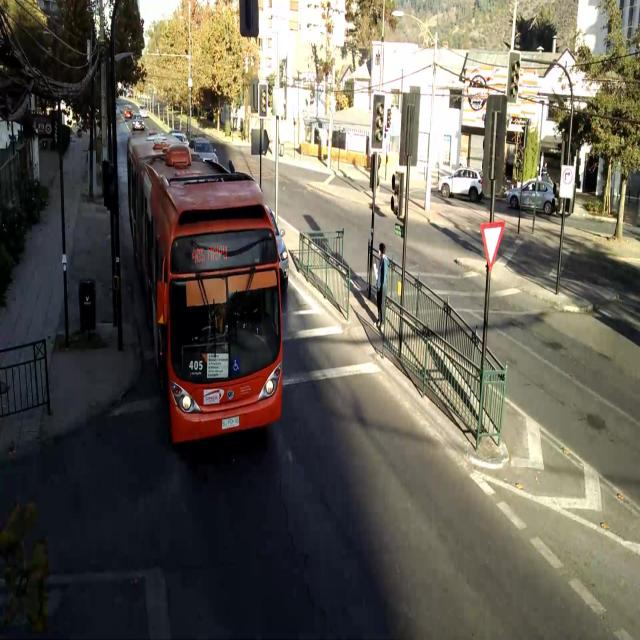AB: (125, 125, 286, 459)
